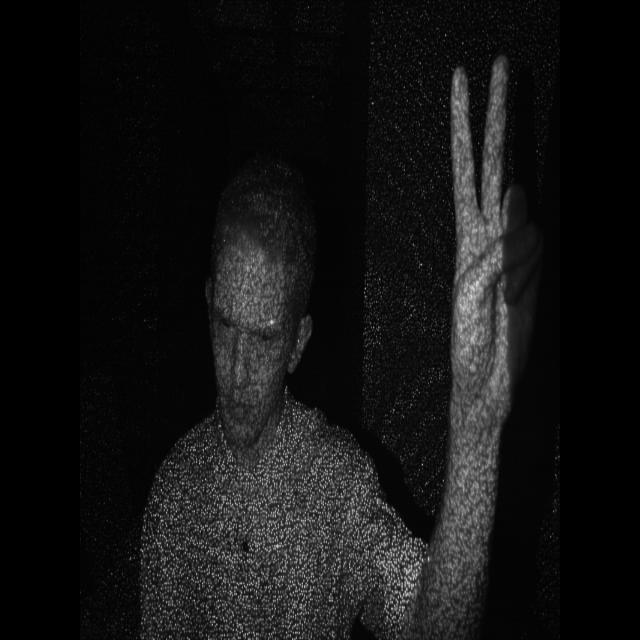V: (440, 32, 533, 440)
